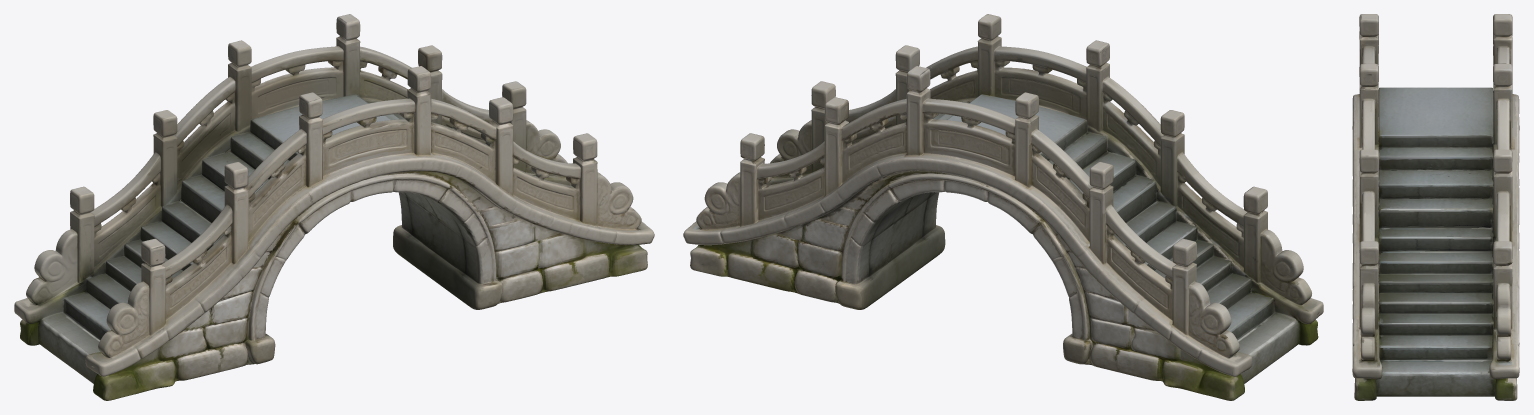
Rendered from ShiGongQiao.glb.
The picture shows the model from 3 angles, left to right: view 1: azimuth 30°, elevation 25°; view 2: azimuth 150°, elevation 25°; view 3: azimuth 270°, elevation 25°; orthographic projection. The views are drawn at different scales.
Parts seen in each view (by area): view 1: node_0; view 2: node_0; view 3: node_0.
Boxes of the visible parts, bbox=[...] form: node_0: bbox=[14, 14, 654, 400]; node_0: bbox=[683, 14, 1323, 400]; node_0: bbox=[1352, 14, 1519, 400].
Bounding box in the file's own units: 1.1 × 0.4699 × 0.3032.
1 material, 1 textured.
